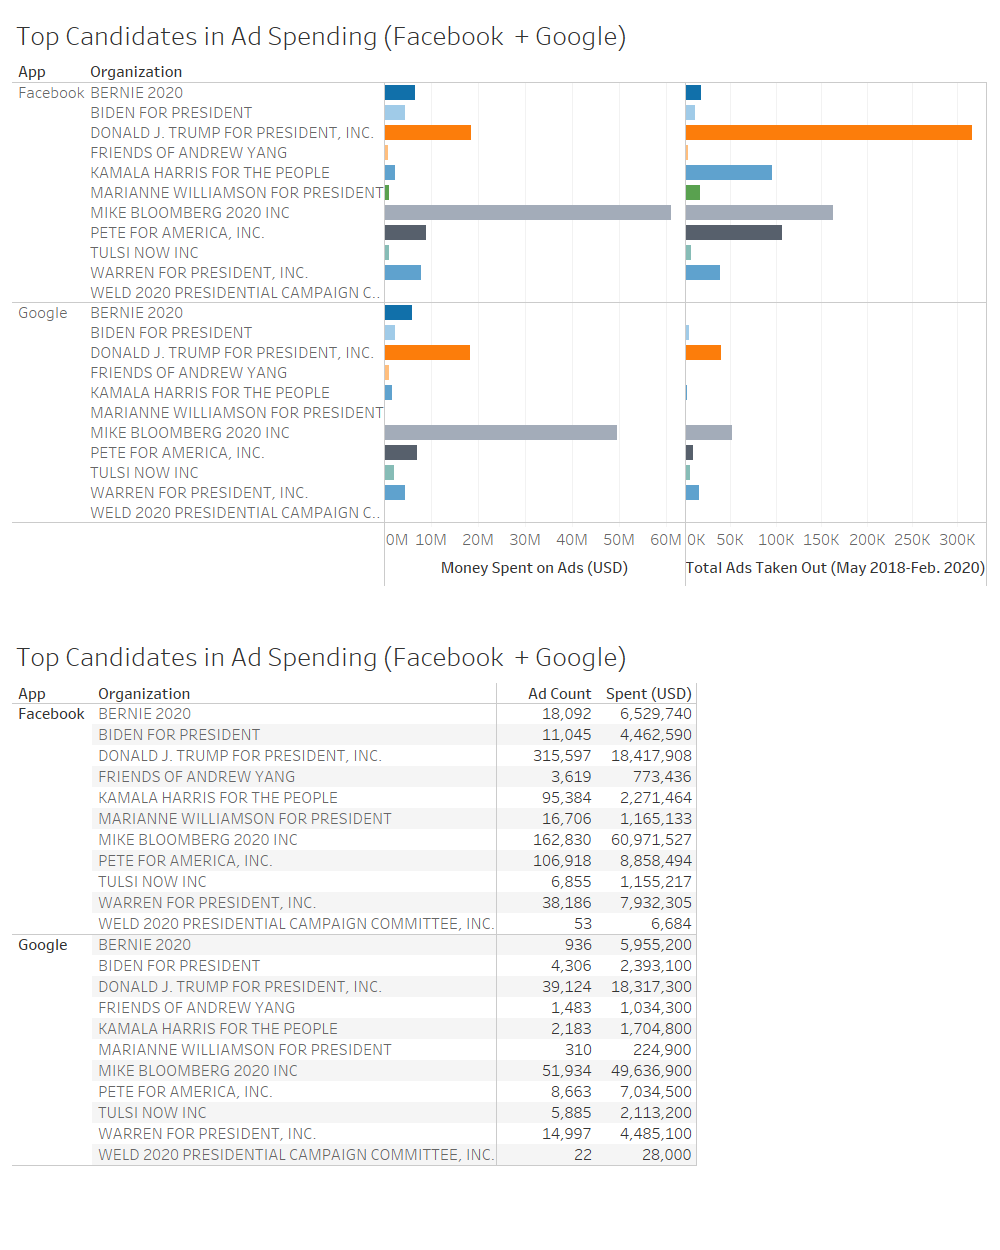

The dashboard page shown, as its layout file describes it:
{"tool":"tableau","page":{"name":"FB + Google Spending","canvas":[1000,1250],"ordinal":0},"visuals":[{"type":"worksheet","title":"Top 5 Spending","mark":"Automatic","rows":["App","Organization"],"cols":["Spent","AdTotal"],"box":[8,8,984,621]},{"type":"worksheet","title":"Top 5 Spending (TABLE)","mark":"Automatic","rows":["App","Organization"],"box":[8,629,984,613]}]}

Visuals, with their boxes in screenshot pixels (x1, y1, x2, y2), scaled from the page's 1000x1250 canvas onto the 1000x1250 screenshot:
"Top 5 Spending" worksheet: [x1=8, y1=8, x2=992, y2=629]
"Top 5 Spending (TABLE)" worksheet: [x1=8, y1=629, x2=992, y2=1242]
